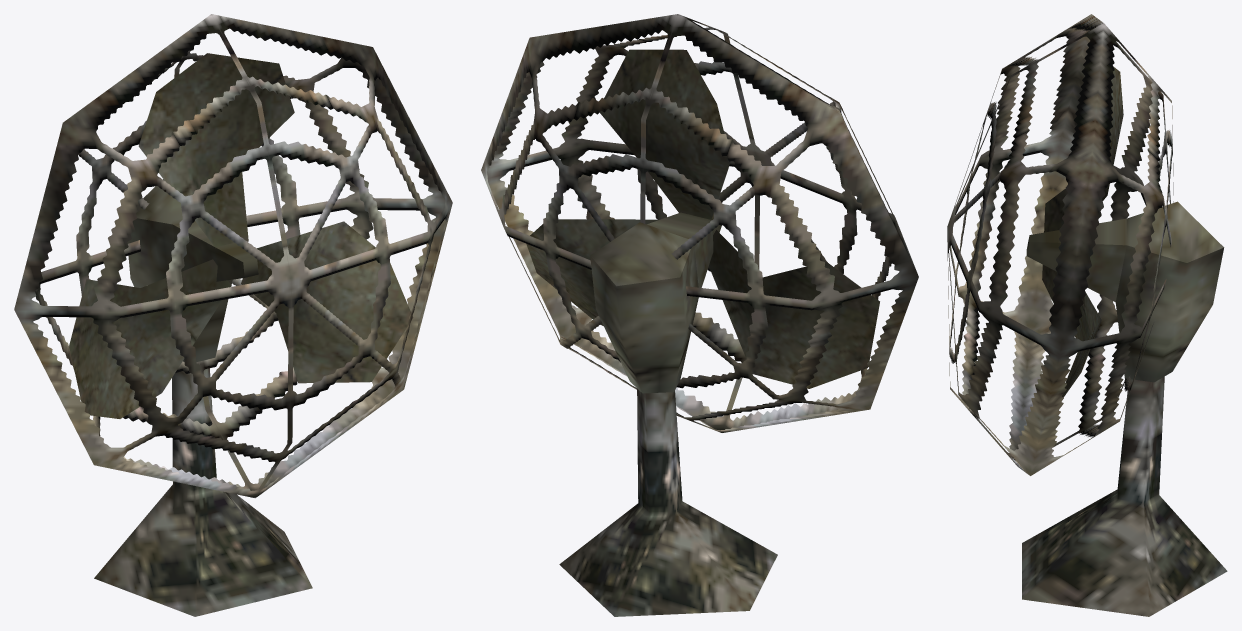
Rendered from Fan02.glb.
3 views of the same model, side by side, from view 1: azimuth 30°, elevation 25°; view 2: azimuth 150°, elevation 25°; view 3: azimuth 270°, elevation 25° (orthographic).
Parts seen in each view (by area): view 1: _Fan02; view 2: _Fan02; view 3: _Fan02.
Boxes of the visible parts, box(x1,y1,x2,y2) form: _Fan02: box(14, 14, 452, 616); _Fan02: box(481, 14, 918, 616); _Fan02: box(947, 14, 1227, 616).
Bounding box in the file's own units: 0.5257 × 0.6391 × 0.2967.
1 material, 1 textured.
